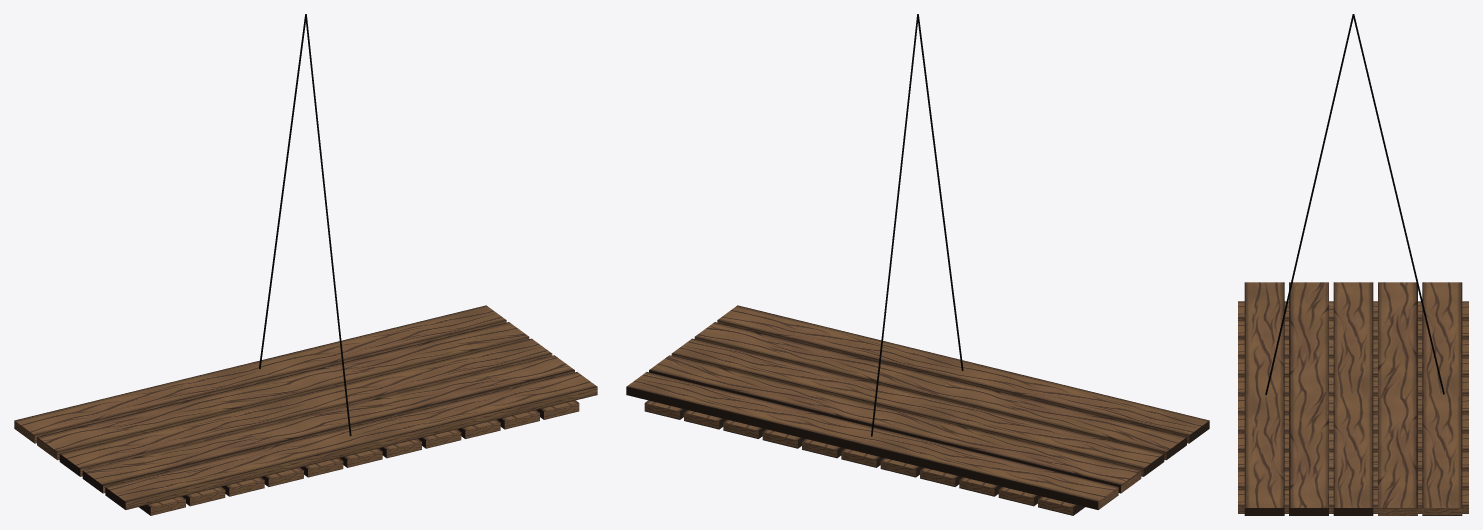
The model's file is Piattaforma.fbx.
The picture shows the model from 3 angles, left to right: view 1: azimuth 30°, elevation 25°; view 2: azimuth 150°, elevation 25°; view 3: azimuth 270°, elevation 25°; orthographic projection. The views are drawn at different scales.
Visible parts, largest first — view 1: Piattaforma, Corde; view 2: Piattaforma, Corde; view 3: Piattaforma, Corde.
Part boxes in pixels (x1,y1,x2,y2): Piattaforma: (14, 305, 597, 515); Corde: (259, 14, 351, 436); Piattaforma: (626, 305, 1209, 515); Corde: (871, 14, 963, 436); Piattaforma: (1238, 282, 1468, 515); Corde: (1265, 14, 1444, 395).
Bounding box in the file's own units: 600 × 493 × 260.
